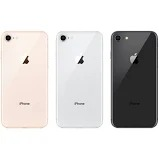iphone: (109, 29, 159, 131), (55, 29, 105, 131), (1, 27, 49, 129)
iphone8: (109, 28, 159, 130), (55, 29, 104, 131), (1, 29, 49, 131)
